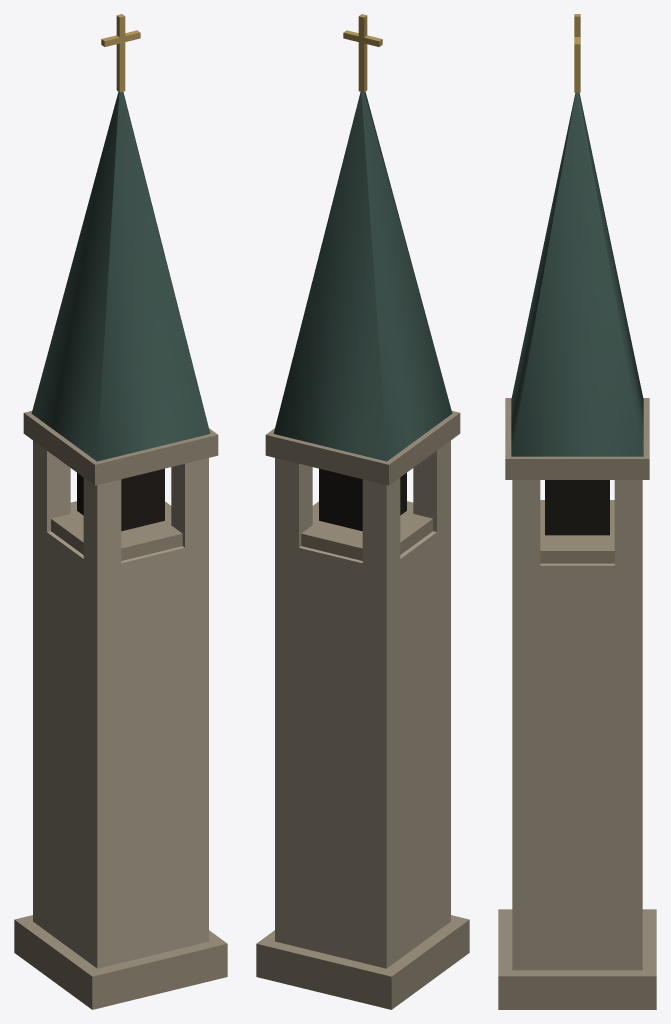
Rendered from steeple-tower-b-lod1.glb.
The picture shows the model from 3 angles, left to right: view 1: azimuth 30°, elevation 25°; view 2: azimuth 150°, elevation 25°; view 3: azimuth 270°, elevation 25°; orthographic projection.
Visible parts, largest first — view 1: shaft, spire, cross; view 2: shaft, spire, cross; view 3: shaft, spire, cross.
Boxes of the visible parts, x1,y1,x2,y2 form: shaft: (14, 411, 227, 1009); spire: (31, 92, 210, 461); cross: (101, 14, 140, 92); shaft: (256, 411, 469, 1009); spire: (273, 92, 452, 461); cross: (343, 14, 382, 92); shaft: (498, 398, 656, 1009); spire: (511, 92, 643, 456); cross: (574, 14, 580, 92).
Size of the model in its own units: 3.4 by 22.8 by 3.4.
